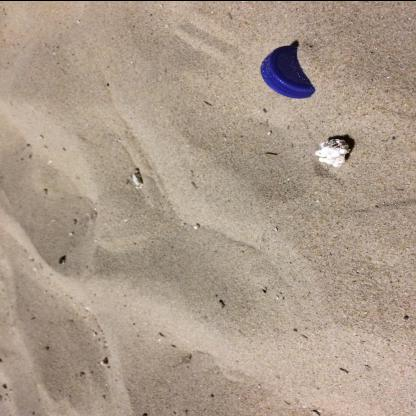kopuk: (314, 138, 350, 166)
plastik: (260, 44, 316, 98)
